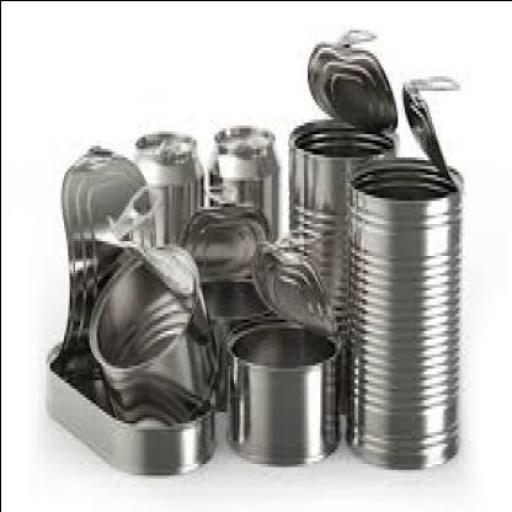metal: (345, 75, 465, 463), (292, 30, 397, 414), (346, 151, 464, 468), (290, 116, 396, 414), (56, 144, 164, 368), (90, 241, 220, 425), (47, 338, 218, 474), (225, 313, 341, 465), (184, 275, 273, 411), (176, 182, 272, 283), (308, 26, 398, 130), (134, 130, 204, 258), (251, 223, 337, 327), (210, 124, 280, 242), (404, 72, 460, 179)
